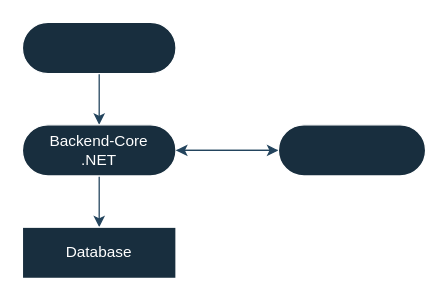
Some shapes in this 448 by 301 pixel diagram are drawn without their labels. Here are the shapes that lost their labels. From the top down, the centre of each, then its label:
At point 98,47: "React Client".
At point 351,150: "AI Services Python".
